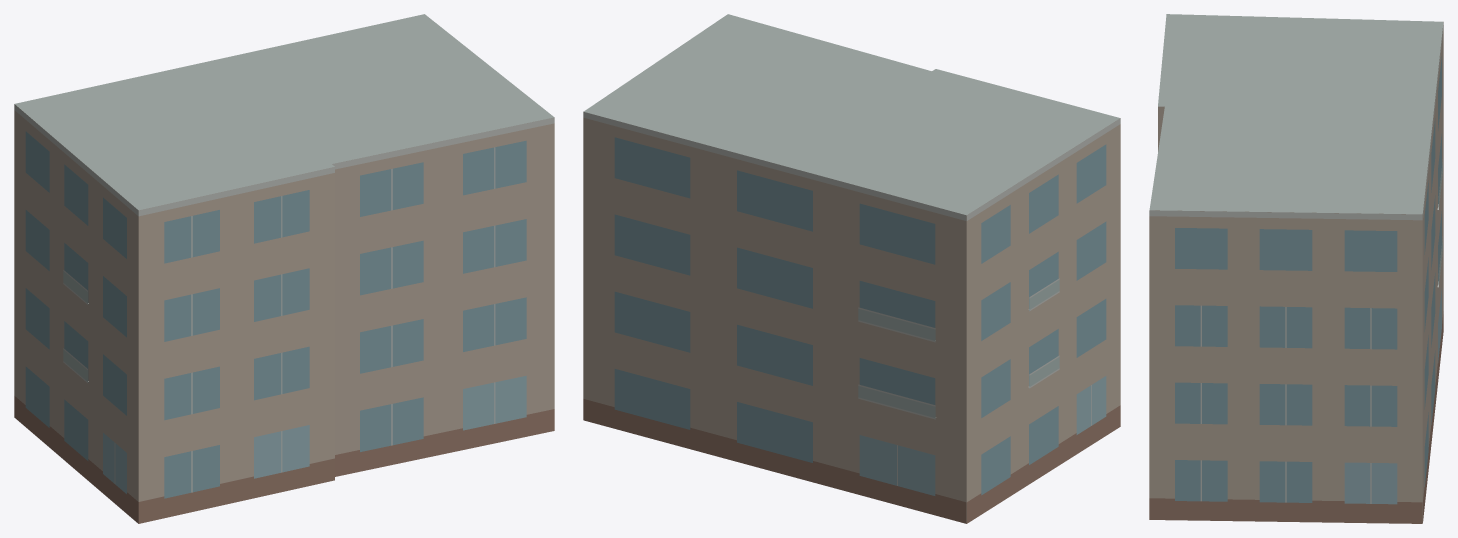
The model's file is survey-upis-32976785.glb.
The picture shows the model from 3 angles, left to right: view 1: azimuth 30°, elevation 25°; view 2: azimuth 150°, elevation 25°; view 3: azimuth 270°, elevation 25°; orthographic projection.
Parts seen in each view (by area): view 1: survey-upis-32976785.tmp; view 2: survey-upis-32976785.tmp; view 3: survey-upis-32976785.tmp.
Part boxes in pixels (bbox=[...]): survey-upis-32976785.tmp: bbox=[14, 14, 554, 523]; survey-upis-32976785.tmp: bbox=[583, 14, 1120, 523]; survey-upis-32976785.tmp: bbox=[1149, 14, 1443, 523].
Bounding box in the file's own units: 17.71 × 12.75 × 10.99.
